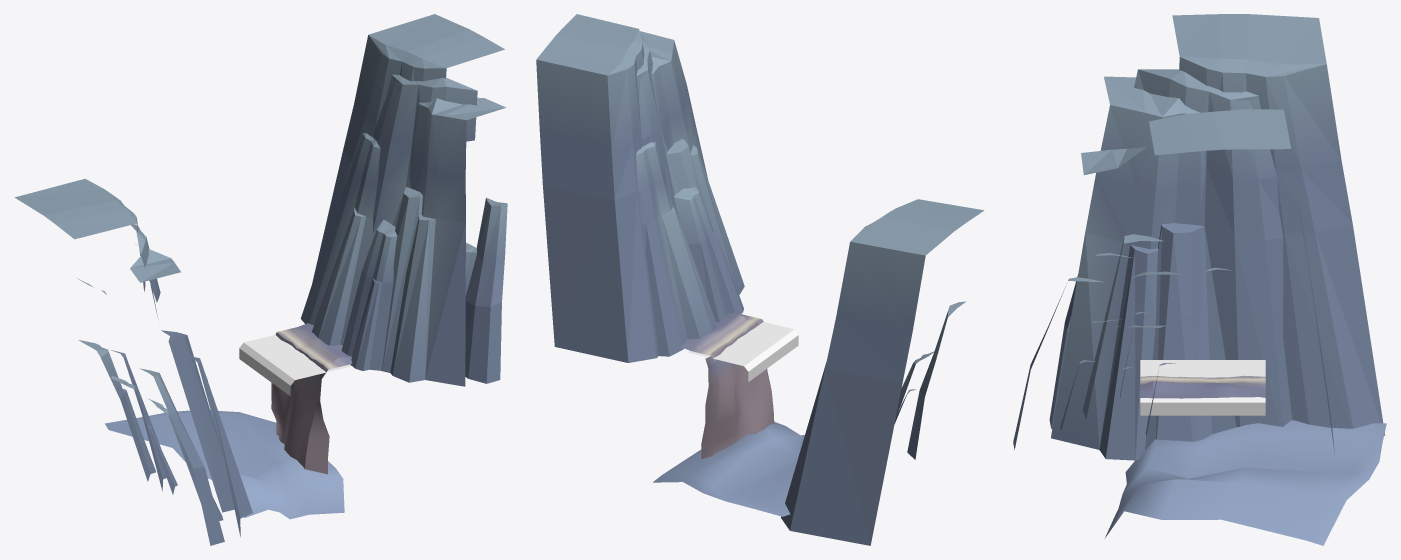
Rendered from Arctic_Narrows_Left_Straight_Short_B.glb.
The picture shows the model from 3 angles, left to right: view 1: azimuth 30°, elevation 25°; view 2: azimuth 150°, elevation 25°; view 3: azimuth 270°, elevation 25°; orthographic projection. The views are drawn at different scales.
Visible parts, largest first — view 1: Arctic_Narrows_Left_IceWall_A01 (4), Arctic_Narrows_Left_Straight_Short_A, Arctic_Narrows_Right_IceWall_A02 (2), Arctic_Narrows_Left_IceWall_A01_Left, Arctic_Narrows_Left_IceWall_A01_Right, Arctic_Narrows_Left_IceWall_A01_Mid, inv_fill, Arctic_Narrows_Right_IceWall_A02_Left, Arctic_Narrows_Right_IceWall_A02_Mid, Arctic_Narrows_Right_IceWall_A02_Right; view 2: Arctic_Narrows_Left_IceWall_A01 (4), Arctic_Narrows_Right_IceWall_A02 (2), Arctic_Narrows_Left_Straight_Short_A, Arctic_Narrows_Left_IceWall_A01_Left, Arctic_Narrows_Left_IceWall_A01_Mid, inv_fill, Arctic_Narrows_Right_IceWall_A02_Left; view 3: Arctic_Narrows_Right_IceWall_A02 (2), Arctic_Narrows_Left_Straight_Short_A, Arctic_Narrows_Left_IceWall_A01 (4), inv_fill, Arctic_Narrows_Left_IceWall_A01_Right, Arctic_Narrows_Right_IceWall_A02_Left.
Part boxes in pixels (<box>): Arctic_Narrows_Left_IceWall_A01 (4): <box>312,14,505,386</box>; Arctic_Narrows_Left_Straight_Short_A: <box>105,323,352,519</box>; Arctic_Narrows_Right_IceWall_A02 (2): <box>14,178,252,537</box>; Arctic_Narrows_Left_IceWall_A01_Left: <box>300,132,387,345</box>; Arctic_Narrows_Left_IceWall_A01_Right: <box>465,197,507,383</box>; Arctic_Narrows_Left_IceWall_A01_Mid: <box>341,219,397,370</box>; inv_fill: <box>239,334,351,396</box>; Arctic_Narrows_Right_IceWall_A02_Left: <box>139,368,224,545</box>; Arctic_Narrows_Right_IceWall_A02_Mid: <box>79,340,177,494</box>; Arctic_Narrows_Right_IceWall_A02_Right: <box>77,278,166,491</box>; Arctic_Narrows_Left_IceWall_A01 (4): <box>536,14,744,362</box>; Arctic_Narrows_Right_IceWall_A02 (2): <box>781,199,984,545</box>; Arctic_Narrows_Left_Straight_Short_A: <box>653,312,804,516</box>; Arctic_Narrows_Left_IceWall_A01_Left: <box>635,142,717,356</box>; Arctic_Narrows_Left_IceWall_A01_Mid: <box>674,187,743,322</box>; inv_fill: <box>688,322,798,381</box>; Arctic_Narrows_Right_IceWall_A02_Left: <box>894,301,965,459</box>; Arctic_Narrows_Right_IceWall_A02 (2): <box>1051,14,1385,460</box>; Arctic_Narrows_Left_Straight_Short_A: <box>1105,375,1386,545</box>; Arctic_Narrows_Left_IceWall_A01 (4): <box>1081,109,1334,454</box>; inv_fill: <box>1140,360,1265,415</box>; Arctic_Narrows_Left_IceWall_A01_Right: <box>1013,277,1190,449</box>; Arctic_Narrows_Right_IceWall_A02_Left: <box>1049,274,1078,428</box>.
Size of the model in its own units: 23.75 by 21.69 by 14.89.
